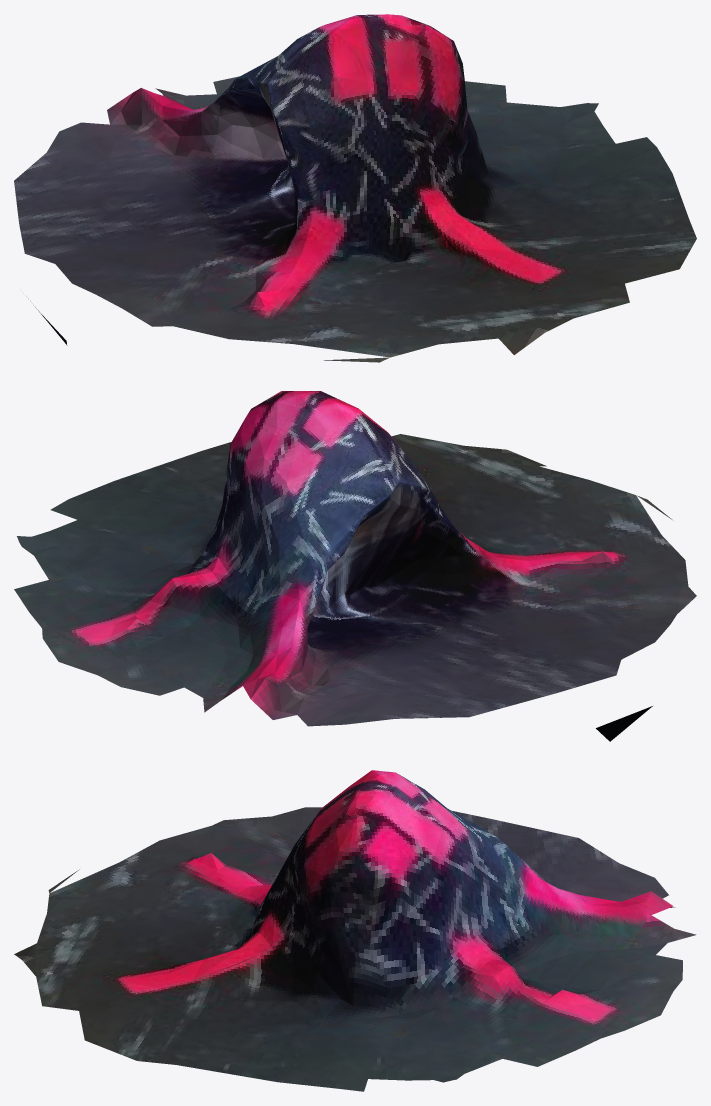
File: 1024-livemask.glb
3 views of the same model, one above another, from view 1: azimuth 30°, elevation 25°; view 2: azimuth 150°, elevation 25°; view 3: azimuth 270°, elevation 25° (orthographic). The views are drawn at different scales.
Visible parts, largest first — view 1: Mesh_0; view 2: Mesh_0; view 3: Mesh_0.
Boxes of the visible parts, x1,y1,x2,y2 form: Mesh_0: [14, 14, 696, 362]; Mesh_0: [14, 391, 696, 741]; Mesh_0: [14, 770, 696, 1091].
Bounding box in the file's own units: 0.3201 × 0.1364 × 0.3273.
1 material, 1 textured.
